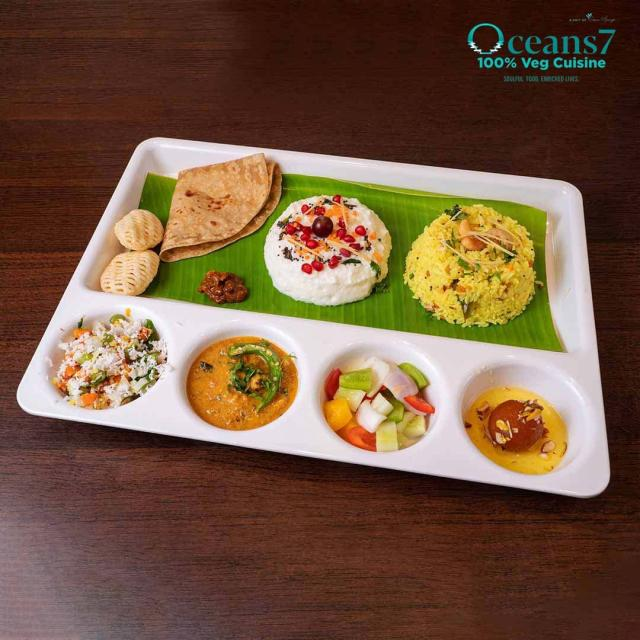veg meals: (36, 144, 615, 520)
